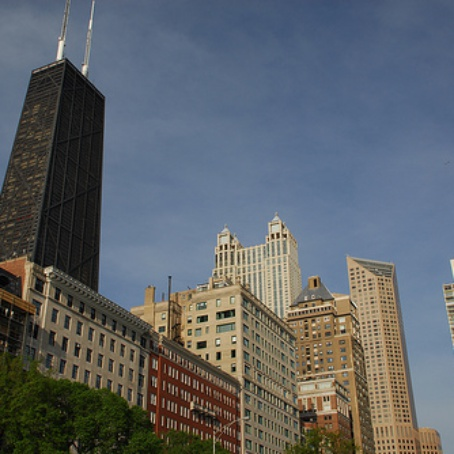building: (5, 8, 118, 282), (1, 271, 158, 454), (187, 308, 291, 454), (345, 258, 422, 454), (293, 289, 365, 454), (144, 356, 243, 454), (210, 211, 298, 308)
sky: (1, 1, 446, 276)
tree: (1, 374, 152, 454)
